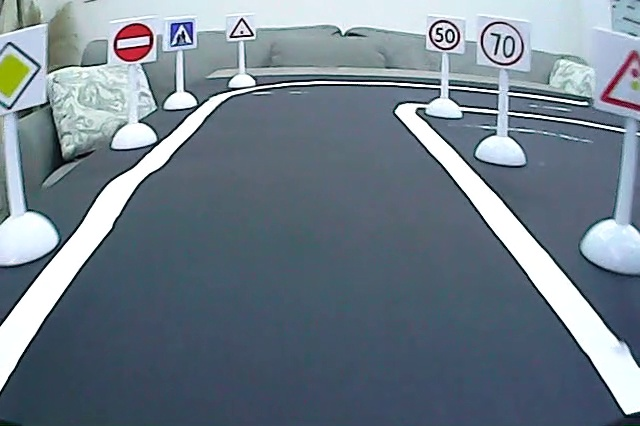do not enter: (112, 21, 156, 64)
green light: (227, 16, 256, 40)
red light: (598, 43, 640, 113)
school crossing: (167, 19, 197, 49)
speed limit 50: (427, 17, 463, 53)
speed limit 70: (476, 17, 527, 69)
